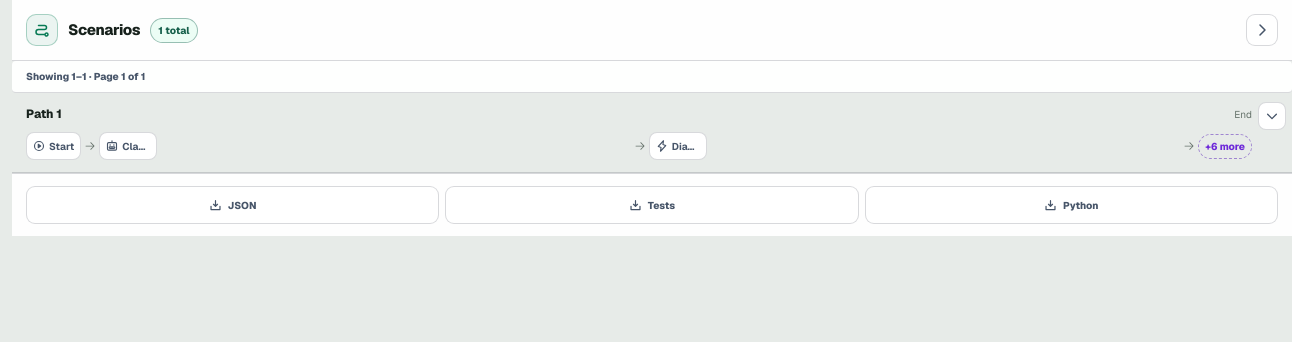
ScenarioPanel › expands a long scenario in place without shrinking or duplicating the route strip
The width and height of the screenshot is (1292, 342).
Check: the number of elements with class "mode-path-strip__node" is 3, box x1=26 y1=132 x2=81 y2=160; x1=99 y1=132 x2=157 y2=160; x1=649 y1=132 x2=707 y2=160
What coordinates should you click on to do the following:
click the button "Path 1 End Start Classifier Agent Diagnostic Action +6 more"
I would click on:
 (41, 114)
Its box is x1=12 y1=93 x2=1258 y2=172.
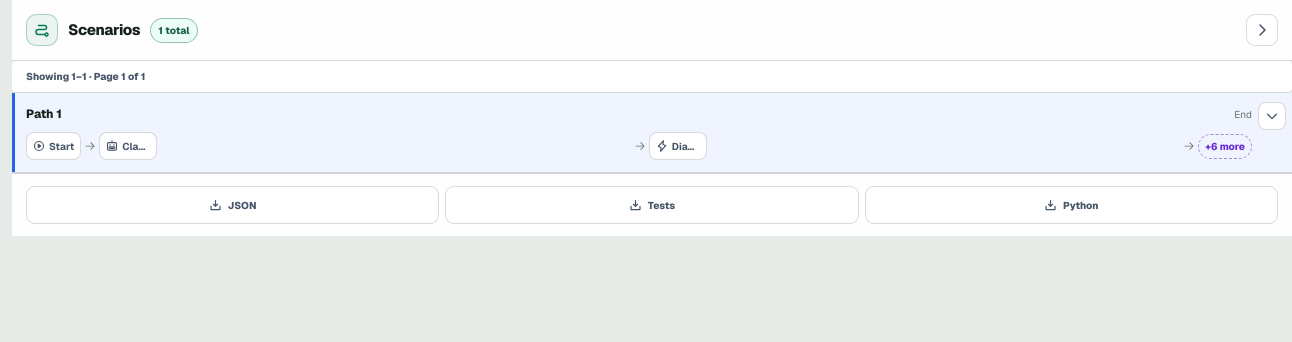
Check: the text "+6 more" is shown, box x1=1198 y1=134 x2=1252 y2=158
What coordinates should you click on to do the following:
click the button named "Show details for path 1"
I would click on:
 (1272, 116)
Its box is x1=1258 y1=102 x2=1286 y2=130.
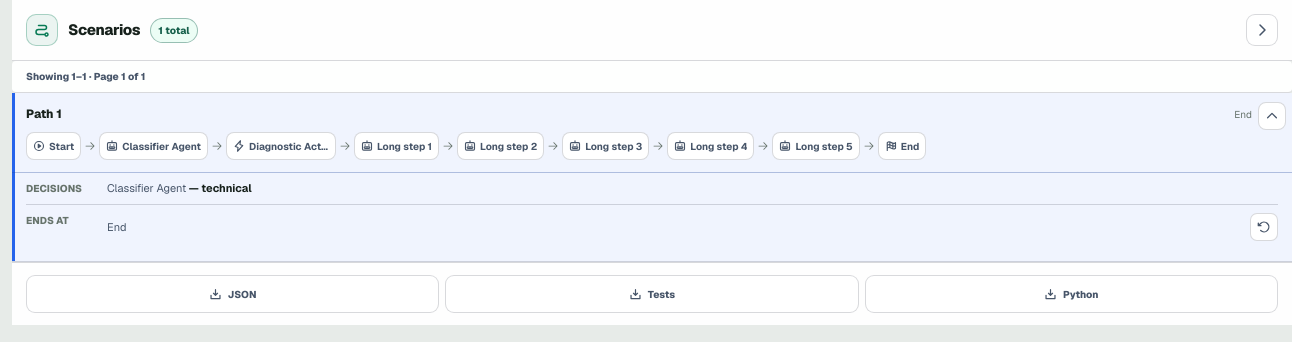
Check: the text with class "mode-path-strip__overflow" is gone
Check: the number of elements with class "mode-path-strip__node" is 9
Check: the element with class "is-expanded" that starts with "Start" is shown, box x1=26 y1=132 x2=926 y2=160
